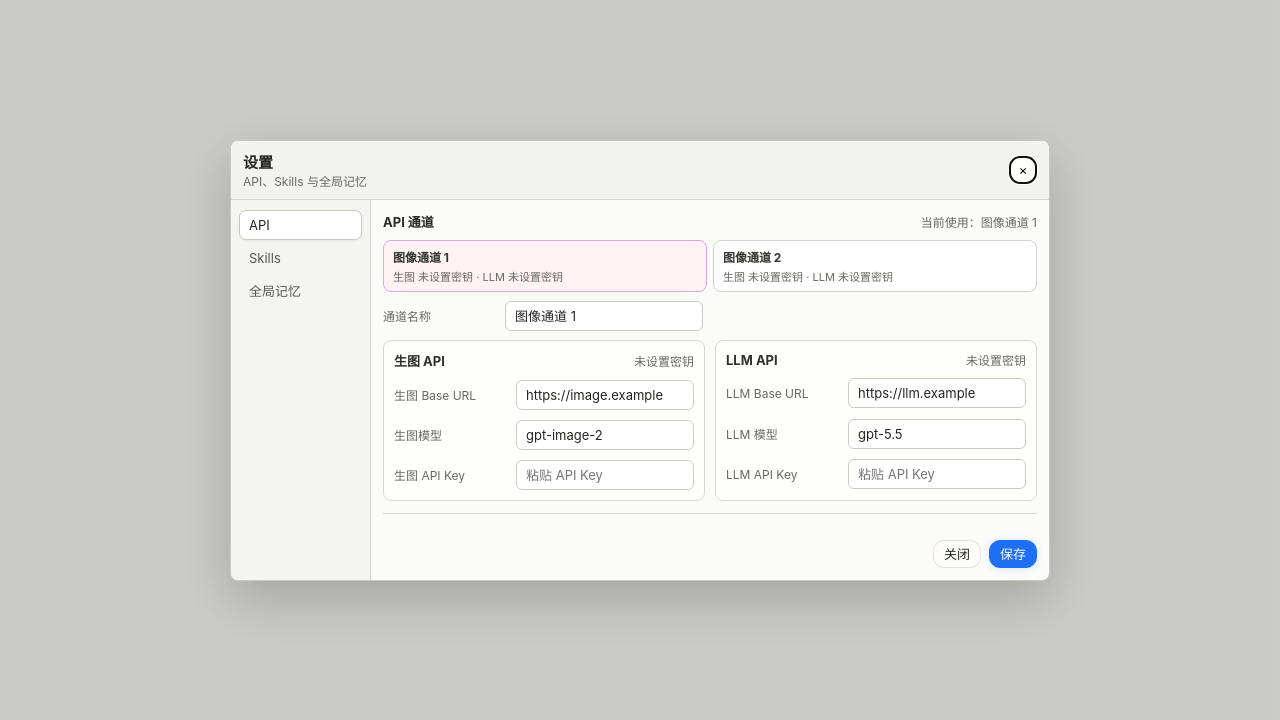
Scenario: ApiSettingsDialog › lists skills and toggles enablement
The image size is (1280, 720).
What coordinates should you click on to do the following:
click the tab "Skills"
I would click on:
 (300, 258)
Its box is [239,242,362,272].
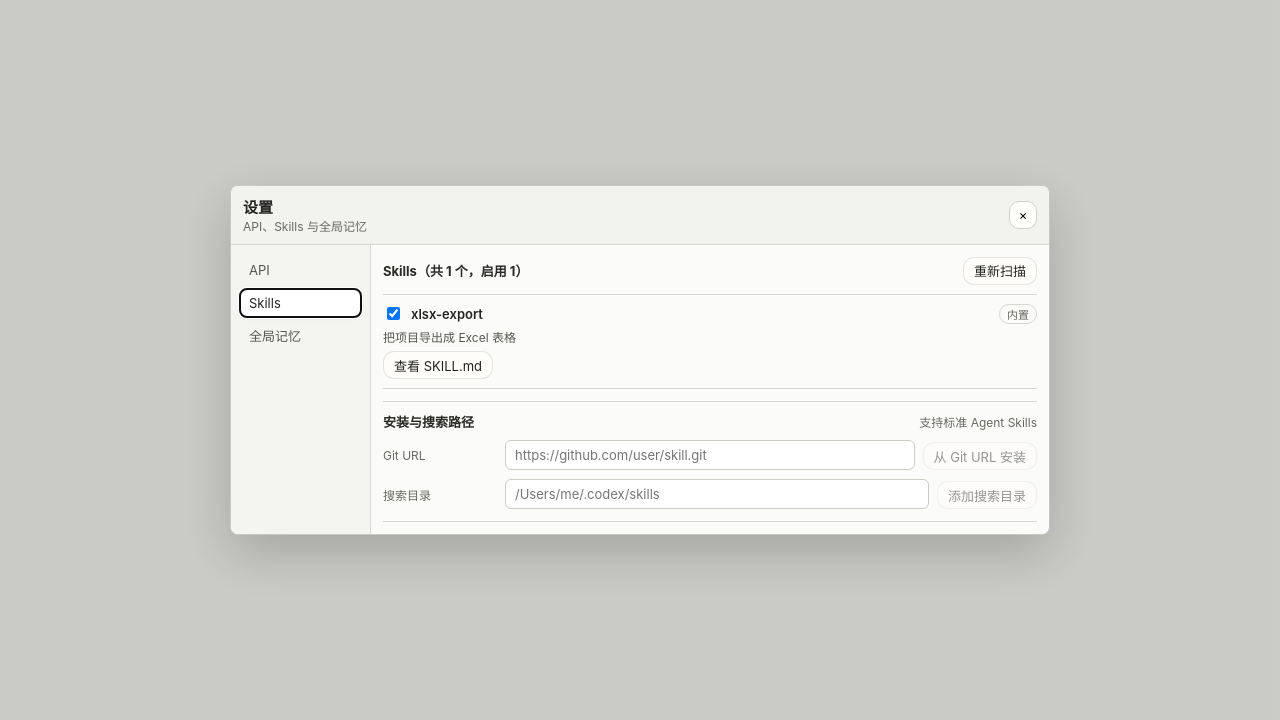
Result: the text "把项目导出成 Excel 表格" is shown at [383,330,516,345]
What coordinates should you click on to do the following:
click the checkbox labelled "xlsx-export"
I would click on:
 (394, 314)
Its box is [387,307,400,320].
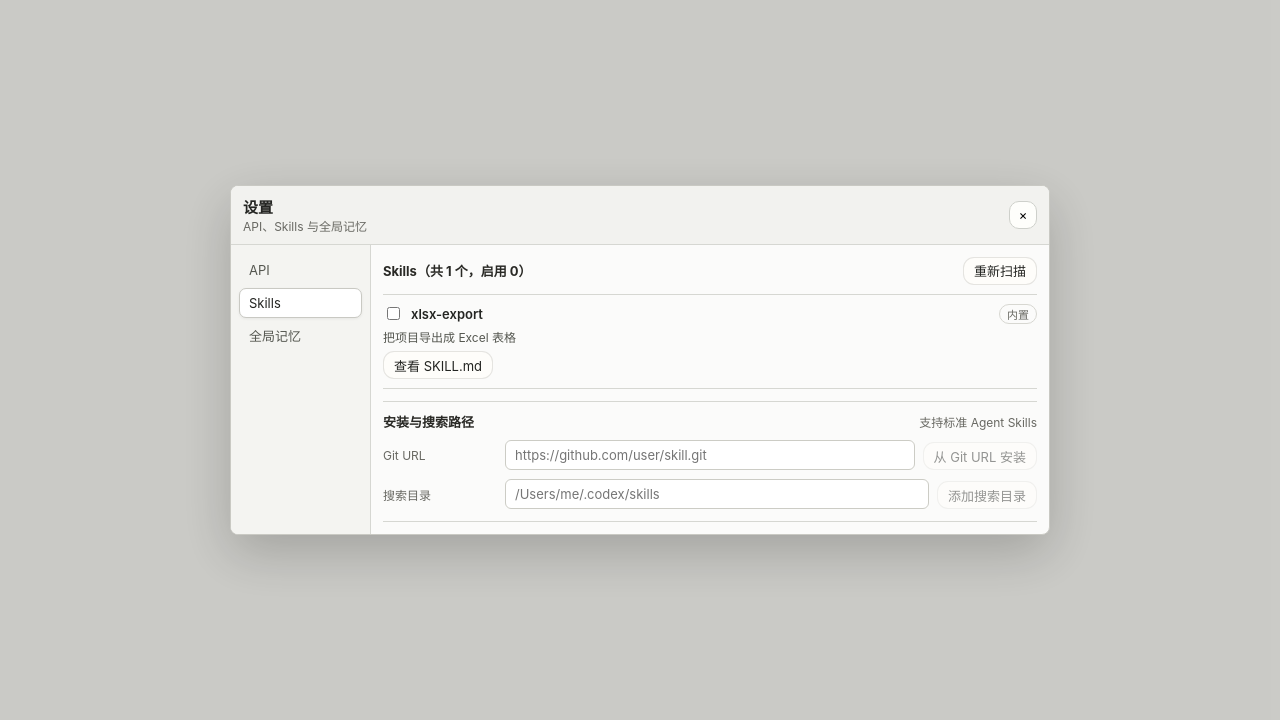
Result: the heading "Skills（共 1 个，启用 0）" is shown at [383,261,532,280]
